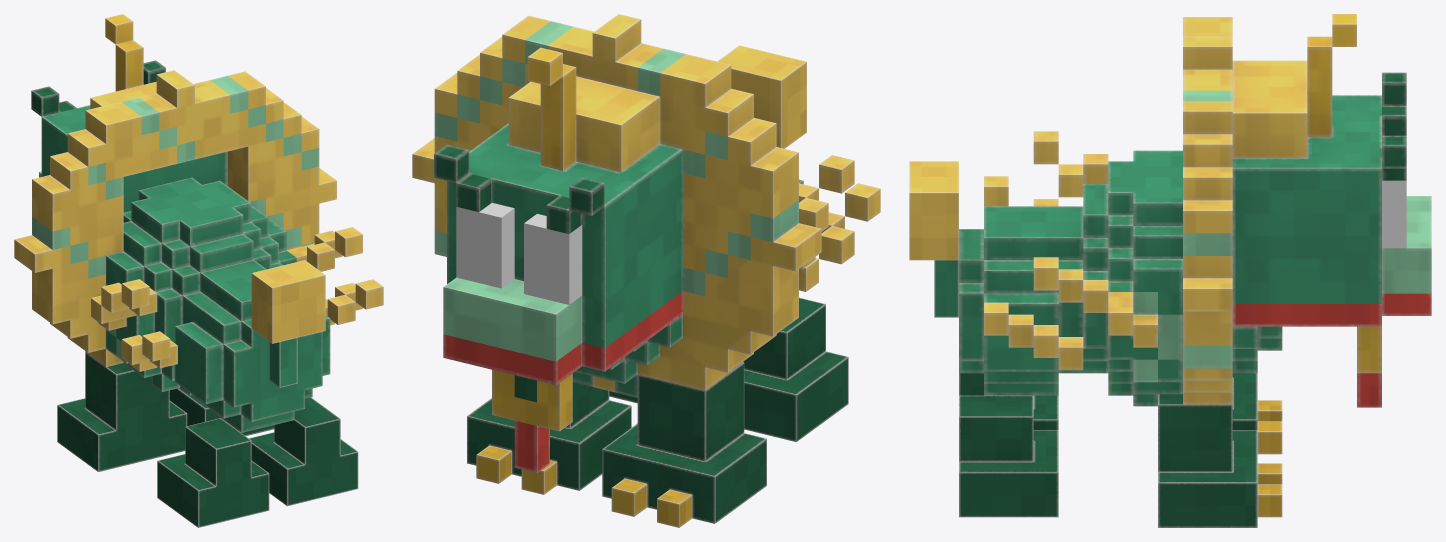
File: Pixiu.glb
The picture shows the model from 3 angles, left to right: view 1: azimuth 30°, elevation 25°; view 2: azimuth 150°, elevation 25°; view 3: azimuth 270°, elevation 25°; orthographic projection. The views are drawn at different scales.
Parts seen in each view (by area): view 1: Head__Tex, Body__Tex, Leg1__Tex, Leg3__Tex, Leg4__Tex, Tail2__Tex, Tail__Tex, Leg2__Tex; view 2: Head__Tex, Leg1__Tex, Leg3__Tex, Leg2__Tex, Body__Tex, Tail2__Tex, Head__Shine, Head__Eye; view 3: Head__Tex, Body__Tex, Leg2__Tex, Leg4__Tex, Tail2__Tex, Leg1__Tex, Leg3__Tex, Tail__Tex, Head__Eye, Head__Shine.
Boxes of the visible parts, x1,y1,x2,y2 form: Head__Tex: (14, 14, 336, 367); Body__Tex: (91, 177, 383, 432); Leg1__Tex: (57, 352, 187, 471); Leg3__Tex: (157, 418, 269, 527); Leg4__Tex: (249, 397, 358, 506); Tail2__Tex: (251, 260, 325, 343); Tail__Tex: (269, 338, 297, 387); Leg2__Tex: (169, 388, 274, 435); Head__Tex: (412, 14, 821, 472); Leg1__Tex: (602, 362, 766, 527); Leg3__Tex: (743, 297, 848, 441); Leg2__Tex: (467, 382, 631, 494); Body__Tex: (572, 155, 880, 397); Tail2__Tex: (717, 45, 806, 148); Head__Shine: (456, 203, 582, 275); Head__Eye: (456, 230, 582, 304); Head__Tex: (1183, 14, 1431, 407); Body__Tex: (959, 131, 1282, 406); Leg2__Tex: (1158, 394, 1282, 527); Leg4__Tex: (959, 395, 1058, 517); Tail2__Tex: (909, 161, 958, 260); Leg1__Tex: (1232, 373, 1282, 454); Leg3__Tex: (959, 373, 1058, 430); Tail__Tex: (934, 260, 958, 317); Head__Eye: (1382, 203, 1406, 248); Head__Shine: (1382, 180, 1406, 203).
Bounding box in the file's own units: 2.72 × 3.2 × 3.36.
Materials: 8 (8 with a texture image).
